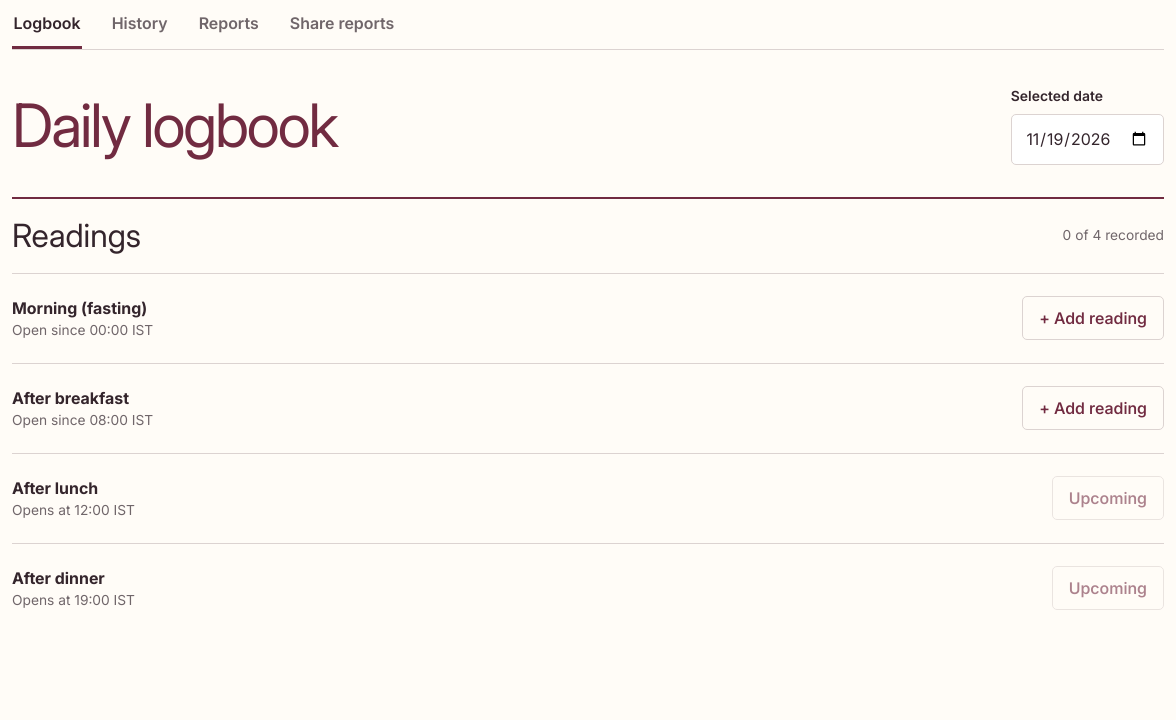
Test case: reading form › adds a reading for an open slot and refreshes the day
This screenshot has width=1176, height=720.
Expected: the heading "Readings" is shown, [12,219,141,253]
Click the button "+ Add reading" in the row of "00:00 IST" at (1093, 318), box [1022,296,1164,340]
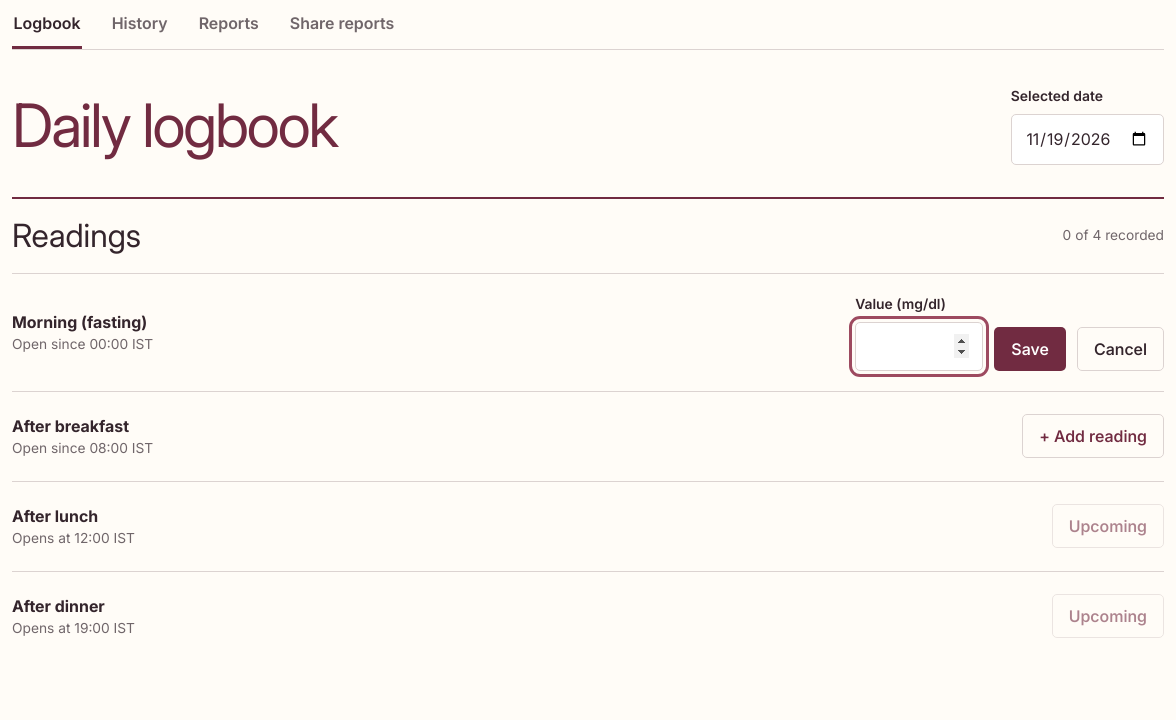
Type "95" into the number field labelled "Value (mg/dl)" at (919, 346), box [855,322,983,371]
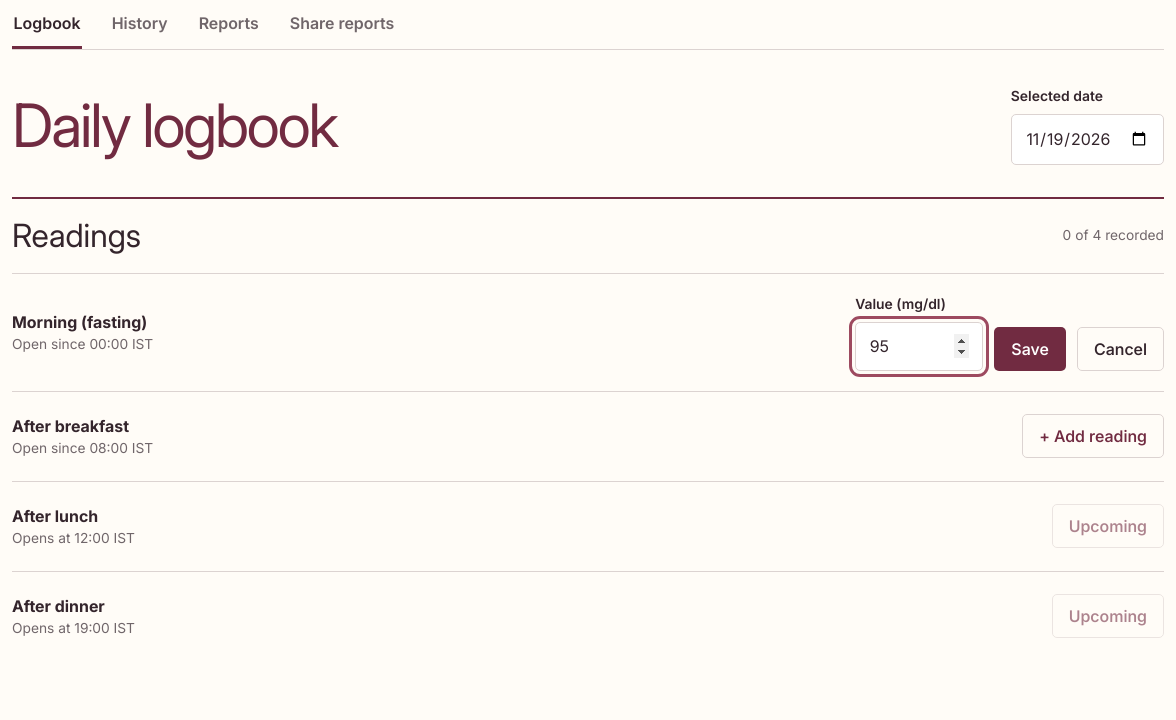
Click the button "Save" at (1030, 349), box [994,327,1066,371]
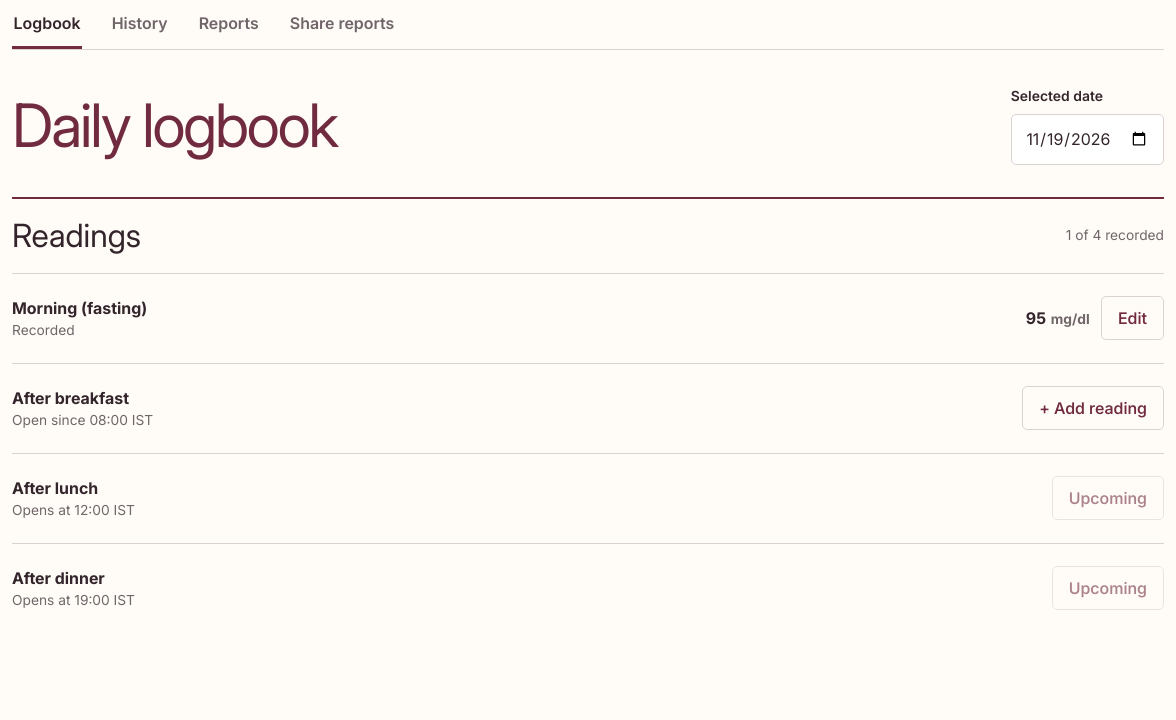
Expected: the text "1 of 4 recorded" is shown, [1066,226,1164,246]
Expected: the text "95" is shown, [1026,308,1046,328]
Expected: the label labelled "Value (mg/dl)" is gone
